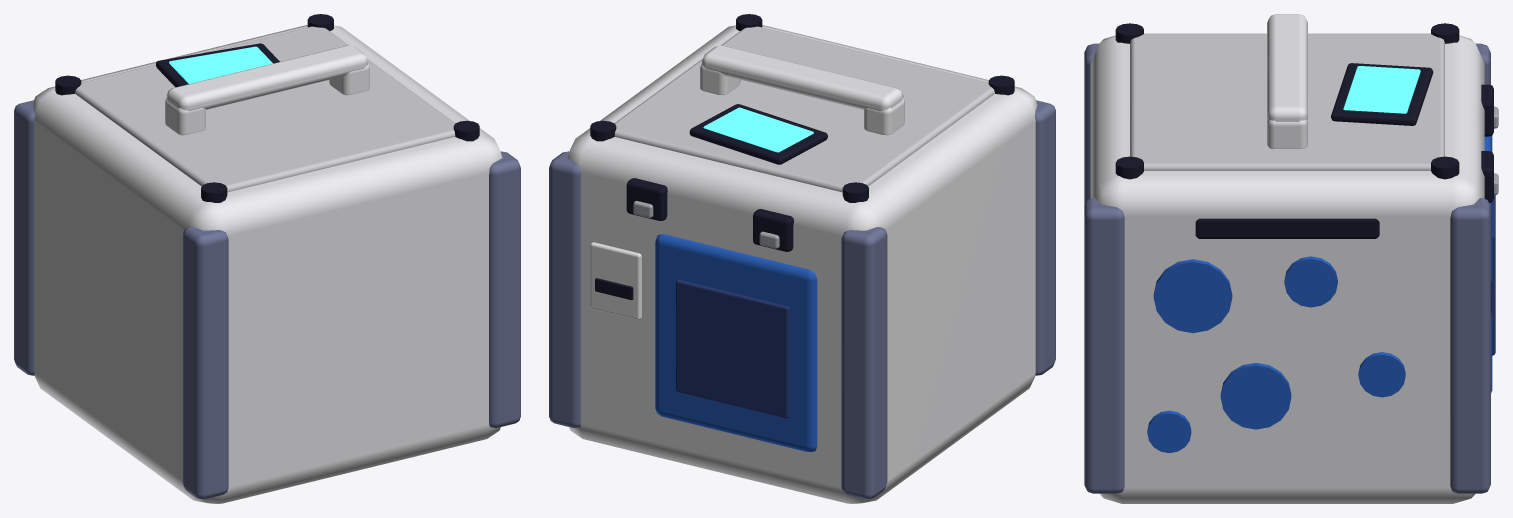
Rendered from prop.props_workrooms.crate_small_white.glb.
3 views of the same model, side by side, from view 1: azimuth 30°, elevation 25°; view 2: azimuth 150°, elevation 25°; view 3: azimuth 270°, elevation 25° (orthographic). The views are drawn at different scales.
Visible parts, largest first — view 1: prop.props_workrooms.crate_small_white; view 2: prop.props_workrooms.crate_small_white; view 3: prop.props_workrooms.crate_small_white.
Boxes of the visible parts, x1,y1,x2,y2 form: prop.props_workrooms.crate_small_white: [14, 14, 520, 503]; prop.props_workrooms.crate_small_white: [549, 14, 1055, 503]; prop.props_workrooms.crate_small_white: [1084, 14, 1498, 503].
Bounding box in the file's own units: 0.516 × 0.522 × 0.526.
